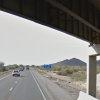Bridge: (6, 5, 100, 71)
